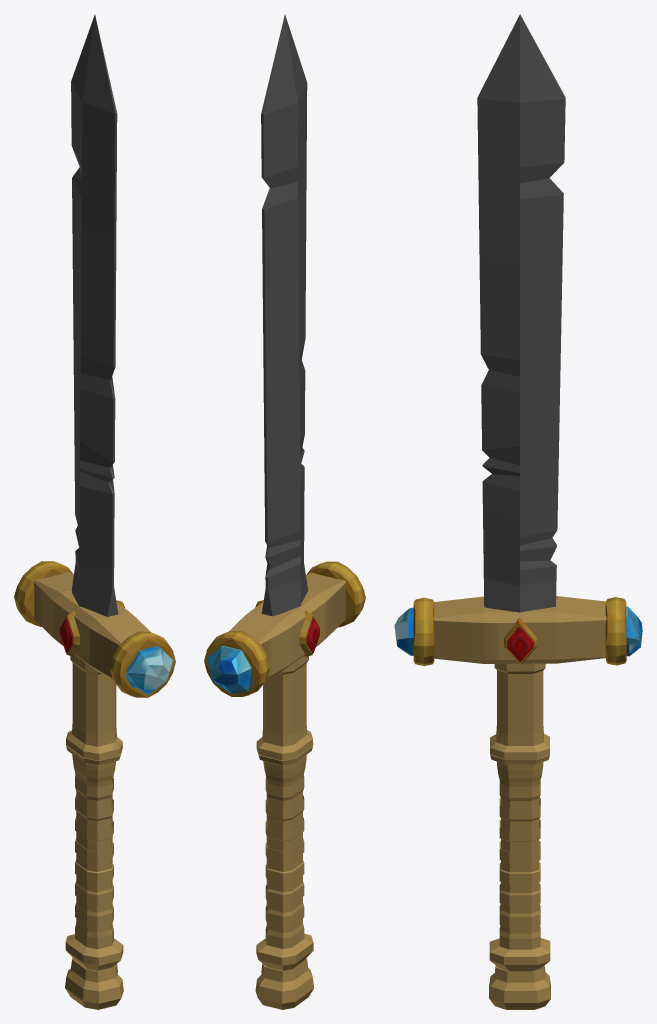
File: sword.glb
The picture shows the model from 3 angles, left to right: view 1: azimuth 30°, elevation 25°; view 2: azimuth 150°, elevation 25°; view 3: azimuth 270°, elevation 25°; orthographic projection.
Parts seen in each view (by area): view 1: Cube.003, Cube, Cylinder, Sphere.001; view 2: Cube.003, Cube, Cylinder, Sphere.001; view 3: Cube.003, Cube, Cylinder, Sphere.001, Cube.002.
Part boxes in pixels (x1,y1,x2,y2): Cube.003: [71, 14, 118, 616]; Cube: [33, 572, 150, 1009]; Cylinder: [14, 561, 175, 697]; Sphere.001: [126, 646, 172, 694]; Cube.003: [261, 14, 308, 616]; Cube: [229, 572, 346, 1009]; Cylinder: [204, 561, 365, 696]; Sphere.001: [207, 590, 364, 694]; Cube.003: [477, 14, 565, 612]; Cube: [433, 596, 606, 1009]; Cylinder: [413, 597, 626, 665]; Sphere.001: [394, 606, 642, 656]; Cube.002: [507, 626, 533, 662].
Size of the model in its own units: 0.4506 by 7.04 by 1.6.
5 materials, 5 textured.
